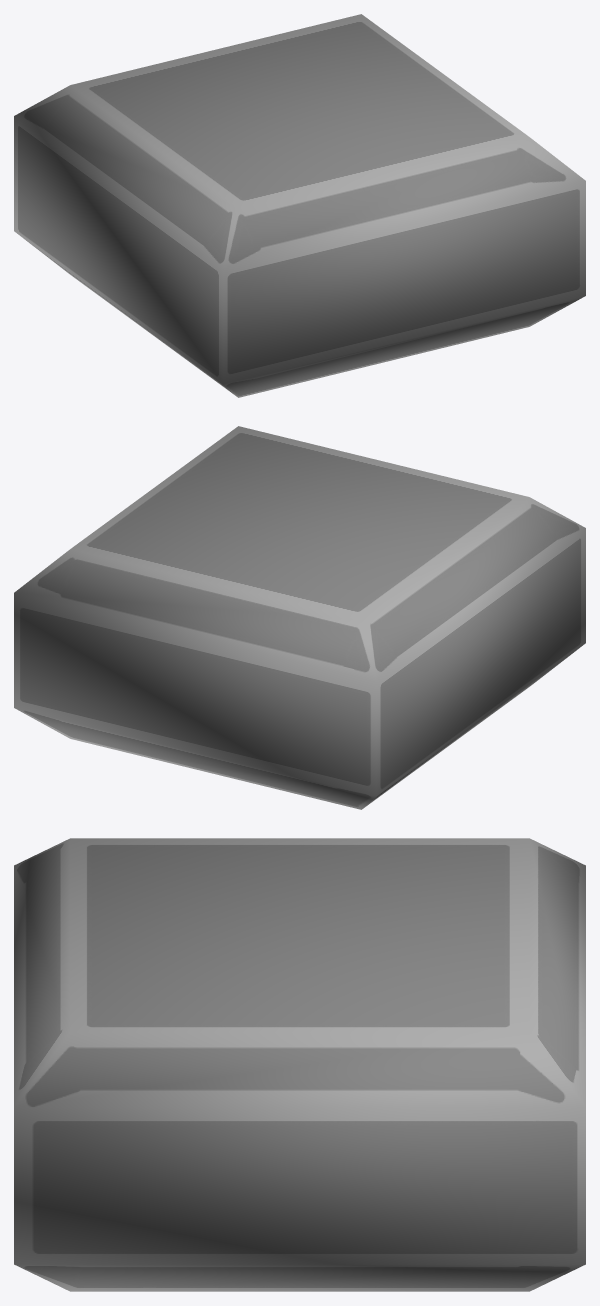
The model's file is blockPlatformIron.obj.
3 renders of one model, top to bottom at view 1: azimuth 30°, elevation 25°; view 2: azimuth 150°, elevation 25°; view 3: azimuth 270°, elevation 25°, orthographic. The views are drawn at different scales.
Visible parts, largest first — view 1: blockPlatformGrass; view 2: blockPlatformGrass; view 3: blockPlatformGrass.
Boxes of the visible parts, x1,y1,x2,y2 form: blockPlatformGrass: (14,14,585,397); blockPlatformGrass: (14,426,585,809); blockPlatformGrass: (14,838,585,1291).
Size of the model in its own units: 1 by 0.5 by 1.
